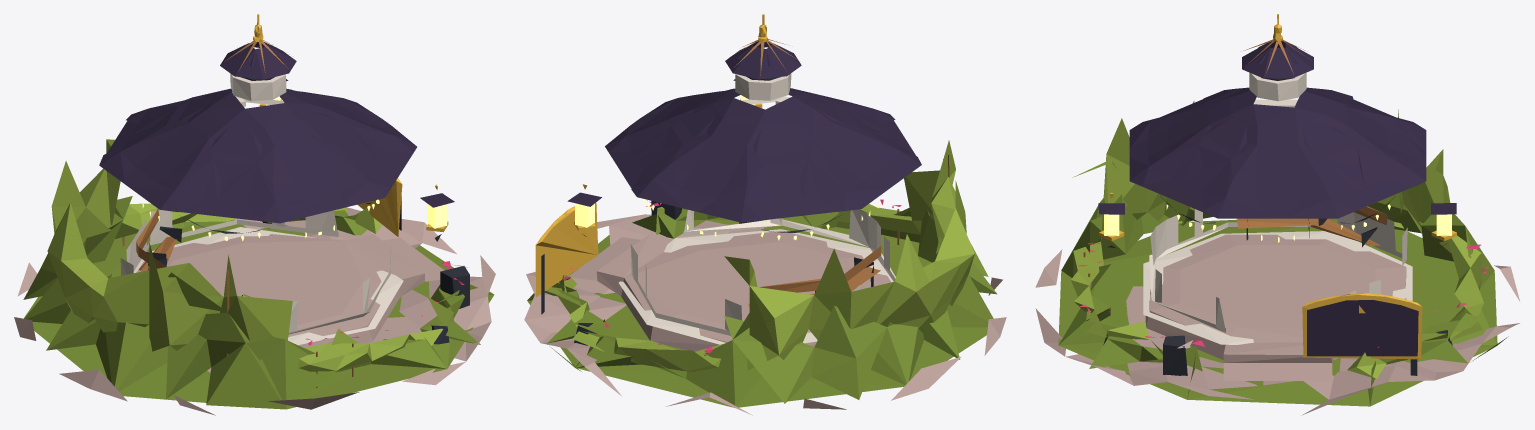
Rendered from bld.gazebo.lod1.glb.
The picture shows the model from 3 angles, left to right: view 1: azimuth 30°, elevation 25°; view 2: azimuth 150°, elevation 25°; view 3: azimuth 270°, elevation 25°; orthographic projection.
Parts seen in each view (by area): view 1: roof, object 15, object 14, interior, object 18, object 16, object 17, object 20, lamp_park_0; view 2: roof, object 15, object 14, interior, object 18, object 16, object 17, object 20; view 3: roof, interior, object 15, object 14, object 18, object 13, object 16, object 17, object 20.
Part boxes in pixels (bbox=[...]): roof: bbox=[99, 14, 416, 233]; object 15: bbox=[23, 196, 494, 409]; object 14: bbox=[47, 139, 459, 371]; interior: bbox=[133, 209, 444, 347]; object 18: bbox=[14, 207, 495, 415]; object 16: bbox=[120, 210, 391, 334]; object 17: bbox=[259, 99, 448, 236]; object 20: bbox=[262, 221, 469, 344]; lamp_park_0: bbox=[427, 204, 447, 228]; roof: bbox=[605, 14, 921, 232]; object 15: bbox=[527, 159, 996, 407]; object 14: bbox=[546, 140, 974, 371]; interior: bbox=[569, 229, 895, 351]; object 18: bbox=[524, 214, 1006, 415]; object 16: bbox=[630, 209, 895, 335]; object 17: bbox=[535, 99, 762, 296]; object 20: bbox=[541, 201, 762, 345]; roof: bbox=[1129, 14, 1426, 223]; interior: bbox=[1143, 206, 1412, 380]; object 15: bbox=[1058, 160, 1508, 406]; object 14: bbox=[1071, 101, 1483, 378]; object 18: bbox=[1035, 249, 1519, 415]; object 13: bbox=[1098, 203, 1456, 356]; object 16: bbox=[1149, 209, 1407, 332]; object 17: bbox=[1099, 192, 1456, 359]; object 20: bbox=[1103, 243, 1452, 375].
Size of the model in its own units: 10.36 by 7.07 by 10.36.
